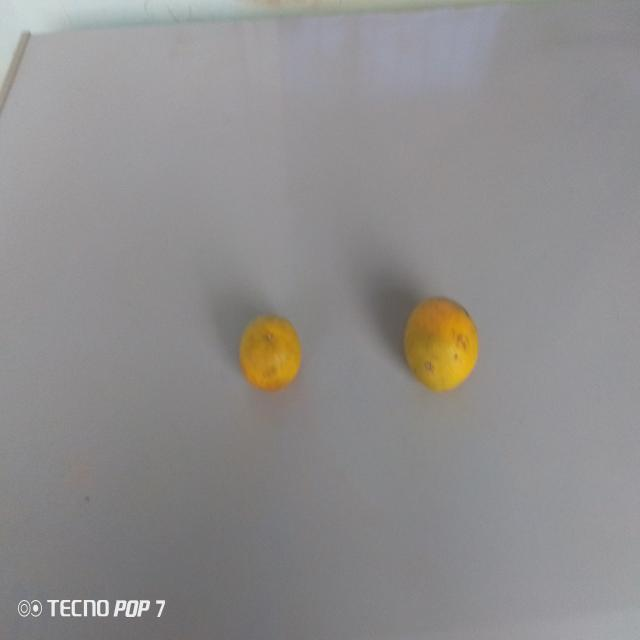Ripe orange: (399, 294, 478, 404), (237, 306, 306, 401)
